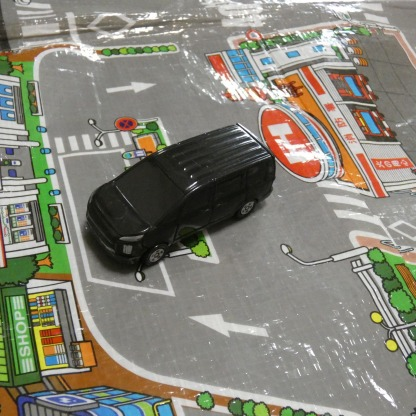car: (85, 121, 274, 269)
